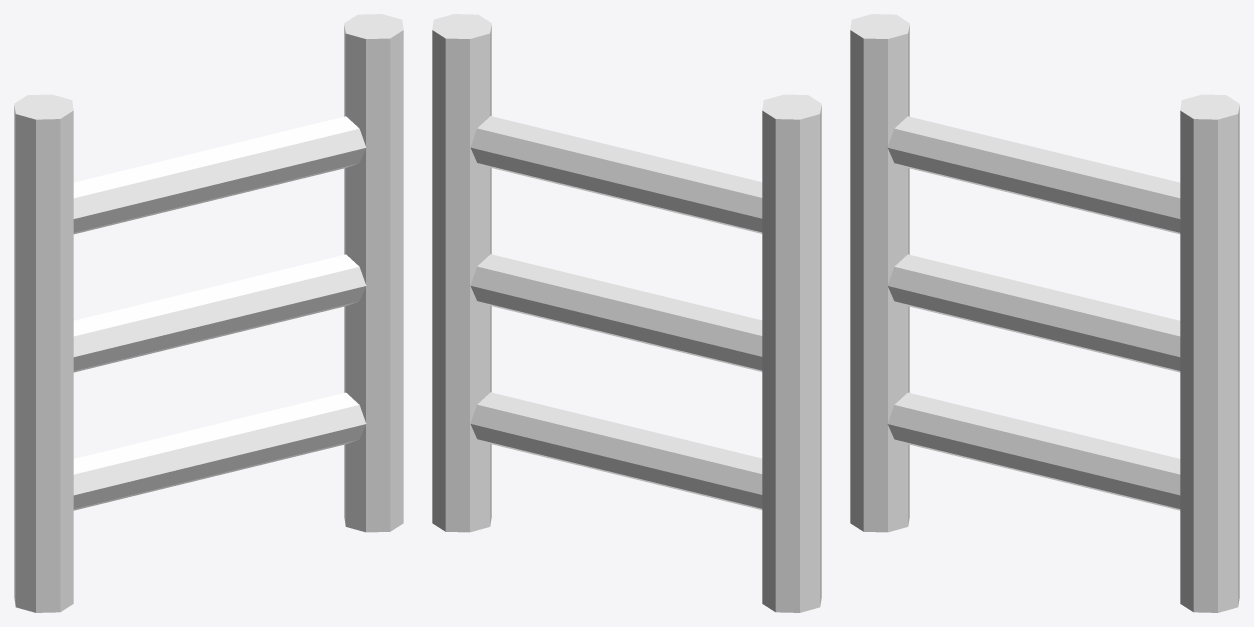
The model's file is DesertLadder.glb.
3 views of the same model, side by side, from view 1: azimuth 30°, elevation 25°; view 2: azimuth 150°, elevation 25°; view 3: azimuth 330°, elevation 25° (orthographic).
Parts seen in each view (by area): view 1: DesertLadder; view 2: DesertLadder; view 3: DesertLadder.
Boxes of the visible parts, left/top/right/bottom form: DesertLadder: left=14, top=14, right=403, bottom=612; DesertLadder: left=432, top=14, right=821, bottom=612; DesertLadder: left=850, top=14, right=1239, bottom=612.
Size of the model in its own units: 1.64 by 2 by 0.24.
Materials: 1 (1 with a texture image).
